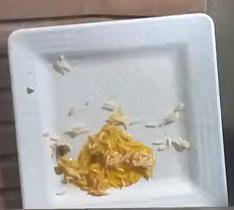rice: (54, 109, 154, 194)
